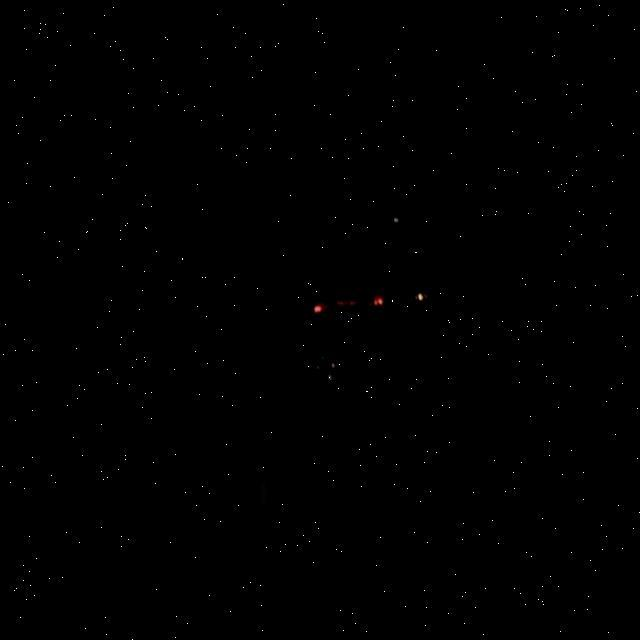Fire: (407, 298, 421, 314), (362, 302, 374, 316), (305, 309, 318, 320)
